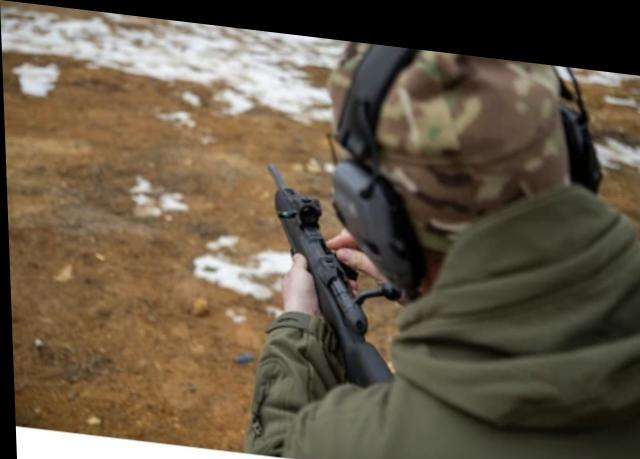other: (227, 21, 640, 458)
